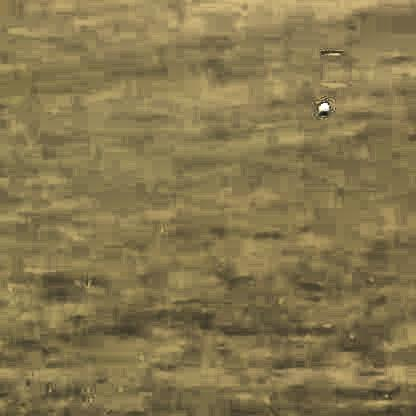golfball: (316, 100, 327, 112)
